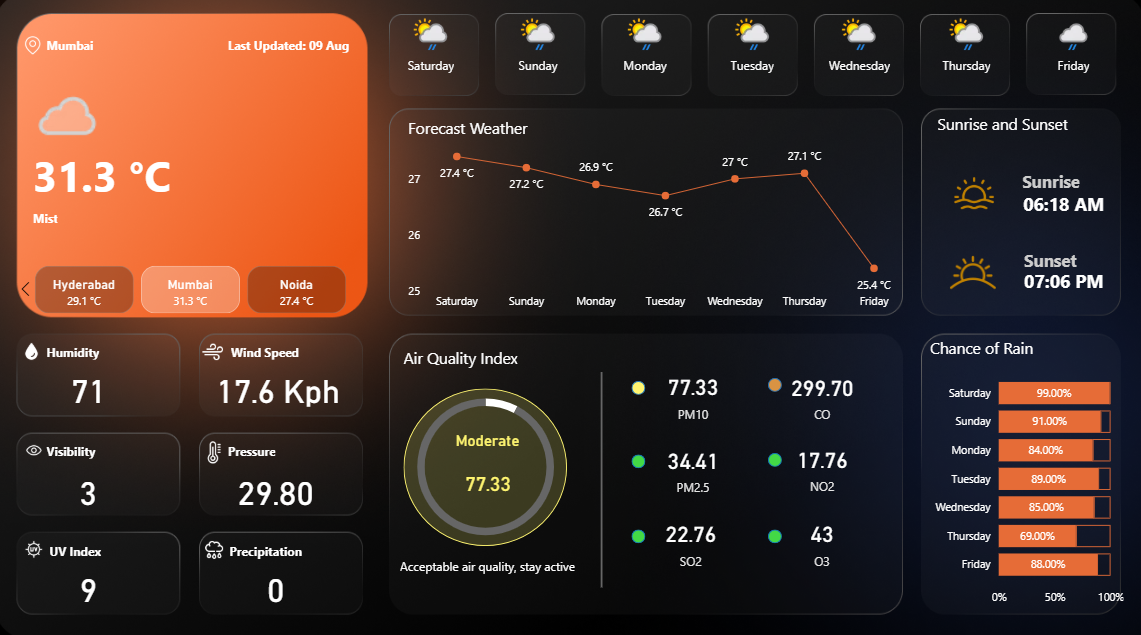

What the dashboard file says about the page in this screenshot:
{"tool":"powerbi","page":{"name":"Page 1","canvas":[1280,720],"ordinal":0},"visuals":[{"type":"shape","box":[455,438.3,181.7,175],"z":0},{"type":"advancedSlicerVisual","fields":{"Values":["Location.location.name"]},"box":[19.5,295.9,398.3,63.4],"z":1000},{"type":"shape","box":[43.9,138.2,235.7,123.6],"z":2000},{"type":"shape","box":[43.9,187,177.2,125.2],"z":3000},{"type":"shape","box":[59.1,25.6,137.4,62.3],"z":4000},{"type":"shape","box":[260.1,34.1,160.9,45.5],"z":5000},{"type":"image","box":[22.4,41.5,43.1,30.4],"z":6000},{"type":"cardVisual","fields":{"Data":["Min(Current.current.condition.icon)"]},"box":[14.6,73.2,118.7,92.7],"z":7000},{"type":"shape","box":[59.1,375.5,161.4,44.7],"z":8000},{"type":"image","box":[22.4,381.8,39.9,30.4],"z":9000},{"type":"image","box":[22.4,492.1,44.7,30.4],"z":10000},{"type":"shape","box":[59.1,485.7,161.4,44.7],"z":11000},{"type":"image","box":[22.4,602.3,44.7,30.4],"z":12000},{"type":"shape","box":[62.3,595.9,161.4,44.7],"z":13000},{"type":"image","box":[223.7,380.2,39.9,35.1],"z":14000},{"type":"image","box":[225.3,492.1,39.9,35.1],"z":15000},{"type":"image","box":[225.3,600.7,39.9,35.1],"z":16000},{"type":"shape","box":[263.6,375.5,161.4,44.7],"z":17000},{"type":"shape","box":[260.4,485.7,161.4,44.7],"z":18000},{"type":"shape","box":[262,595.9,161.4,44.7],"z":19000},{"type":"card","fields":{"Values":["Sum(Current.current.humidity)"]},"box":[45.5,412.9,118.7,50.4],"z":20000},{"type":"card","fields":{"Values":["_Measure.Wind_Speed"]},"box":[226,412.9,177.2,50.4],"z":21000},{"type":"card","fields":{"Values":["Sum(Current.current.vis_km)"]},"box":[45.5,523.5,118.7,55.3],"z":22000},{"type":"card","fields":{"Values":["Sum(Current.current.pressure_in)"]},"box":[253.6,523.5,118.7,55.3],"z":23000},{"type":"card","fields":{"Values":["Sum(Current.current.uv)"]},"box":[45.5,632.4,118.7,55.3],"z":24000},{"type":"card","fields":{"Values":["Sum(Current.current.precip_mm)"]},"box":[253.6,632.4,118.7,55.3],"z":25000},{"type":"advancedSlicerVisual","fields":{"Values":["Forecast_Day.Day_Name"]},"box":[424.3,14.6,835.6,105.7],"z":26000},{"type":"lineChart","title":"Forecast Weather","fields":{"Y":["Sum(Forecast_Day.forecast.forecastday.day.avgtemp_c)"],"Category":["Forecast_Day.Day_Name"]},"box":[455.6,137,558.4,222.7],"z":27000},{"type":"shape","box":[1048.1,121.4,161.4,44.7],"z":28000},{"type":"shape","box":[1105.6,186.9,139,41.5],"z":29000},{"type":"shape","box":[1108.8,274.8,131,41.5],"z":30000},{"type":"shape","box":[1116.8,212.5,143.8,43.1],"z":31000},{"type":"shape","box":[1120,295.6,137.4,47.9],"z":32000},{"type":"image","box":[1060.9,193.3,54.3,55.9],"z":33000},{"type":"image","box":[1048.1,260.4,78.3,99.1],"z":34000},{"type":"hundredPercentStackedBarChart","title":"Chance of Rain","fields":{"Category":["Forecast_Day.Day_Name"],"Y":["Sum(Forecast_Day.forecast.forecastday.day.daily_chance_of_rain)","Current.Left_value_rain"]},"box":[1035.3,381.8,225.3,306.8],"z":35000},{"type":"shape","box":[455.3,381.8,174.1,44.7],"z":36000},{"type":"card","fields":{"Values":["Sum(Current.current.air_quality.co)"]},"box":[868.5,404.3,103.2,81.5],"z":37000},{"type":"card","fields":{"Values":["Sum(Current.current.air_quality.no2)"]},"box":[868.5,485.8,103.2,81.5],"z":38000},{"type":"card","fields":{"Values":["Sum(Current.current.air_quality.o3)"]},"box":[868.4,568.6,102.8,80.5],"z":39000},{"type":"card","fields":{"Values":["Sum(Current.current.air_quality.pm10)"]},"box":[724.5,404.2,102.8,80.5],"z":40000},{"type":"card","fields":{"Values":["Sum(Current.current.air_quality.pm2_5)"]},"box":[724.5,486.4,102.8,80.5],"z":41000},{"type":"card","fields":{"Values":["Sum(Current.current.air_quality.so2)"]},"box":[724.5,568.6,97.6,80.5],"z":42000},{"type":"shape","box":[709.1,429.9,15.4,15.4],"z":43000},{"type":"shape","box":[859.8,426.5,15.4,15.4],"z":44000},{"type":"shape","box":[709.1,512.1,15.4,15.4],"z":45000},{"type":"shape","box":[709.1,594.3,15.4,15.4],"z":46000},{"type":"shape","box":[859.8,510.4,15.4,15.4],"z":47000},{"type":"shape","box":[859.8,594.3,15.4,15.4],"z":48000},{"type":"shape","box":[600.7,420.2,150.2,239.7],"z":49000},{"type":"card","fields":{"Values":["Sum(Current.current.air_quality.pm10)"]},"box":[493.3,486.7,110,95],"z":50000},{"type":"donutChart","fields":{"Y":["Sum(Current.current.air_quality.pm10)","_Measure.left_value_PM10"]},"box":[441.7,425,208.3,200],"z":51000},{"type":"shape","box":[443.3,608.3,210,53.3],"z":51001}]}

Visuals, with their boxes in screenshot pixels (x1, y1, x2, y2), scaled from the page's 1280x720 canvas onto the 1141x635 screenshot:
shape: <box>406,387,568,541</box>
advancedSlicerVisual - Location.location.name: <box>17,261,372,317</box>
shape: <box>39,122,249,231</box>
shape: <box>39,165,197,275</box>
shape: <box>53,23,175,78</box>
shape: <box>232,30,375,70</box>
image: <box>20,37,58,63</box>
cardVisual - Min(Current.current.condition.icon): <box>13,65,119,146</box>
shape: <box>53,331,197,371</box>
image: <box>20,337,56,364</box>
image: <box>20,434,60,461</box>
shape: <box>53,428,197,468</box>
image: <box>20,531,60,558</box>
shape: <box>56,526,199,565</box>
image: <box>199,335,235,366</box>
image: <box>201,434,236,465</box>
image: <box>201,530,236,561</box>
shape: <box>235,331,379,371</box>
shape: <box>232,428,376,468</box>
shape: <box>234,526,377,565</box>
card - Sum(Current.current.humidity): <box>41,364,146,409</box>
card - _Measure.Wind_Speed: <box>201,364,359,409</box>
card - Sum(Current.current.vis_km): <box>41,462,146,510</box>
card - Sum(Current.current.pressure_in): <box>226,462,332,510</box>
card - Sum(Current.current.uv): <box>41,558,146,607</box>
card - Sum(Current.current.precip_mm): <box>226,558,332,607</box>
advancedSlicerVisual - Forecast_Day.Day_Name: <box>378,13,1123,106</box>
"Forecast Weather" lineChart: <box>406,121,904,317</box>
shape: <box>934,107,1078,146</box>
shape: <box>986,165,1109,201</box>
shape: <box>988,242,1105,279</box>
shape: <box>996,187,1124,225</box>
shape: <box>998,261,1121,303</box>
image: <box>946,170,994,220</box>
image: <box>934,230,1004,317</box>
"Chance of Rain" hundredPercentStackedBarChart: <box>923,337,1124,607</box>
shape: <box>406,337,561,376</box>
card - Sum(Current.current.air_quality.co): <box>774,357,866,428</box>
card - Sum(Current.current.air_quality.no2): <box>774,428,866,500</box>
card - Sum(Current.current.air_quality.o3): <box>774,501,866,572</box>
card - Sum(Current.current.air_quality.pm10): <box>646,356,737,427</box>
card - Sum(Current.current.air_quality.pm2_5): <box>646,429,737,500</box>
card - Sum(Current.current.air_quality.so2): <box>646,501,733,572</box>
shape: <box>632,379,646,393</box>
shape: <box>766,376,780,390</box>
shape: <box>632,452,646,465</box>
shape: <box>632,524,646,538</box>
shape: <box>766,450,780,464</box>
shape: <box>766,524,780,538</box>
shape: <box>535,371,669,582</box>
card - Sum(Current.current.air_quality.pm10): <box>440,429,538,513</box>
donutChart - Sum(Current.current.air_quality.pm10) x _Measure.left_value_PM10: <box>394,375,579,551</box>
shape: <box>395,536,582,583</box>
